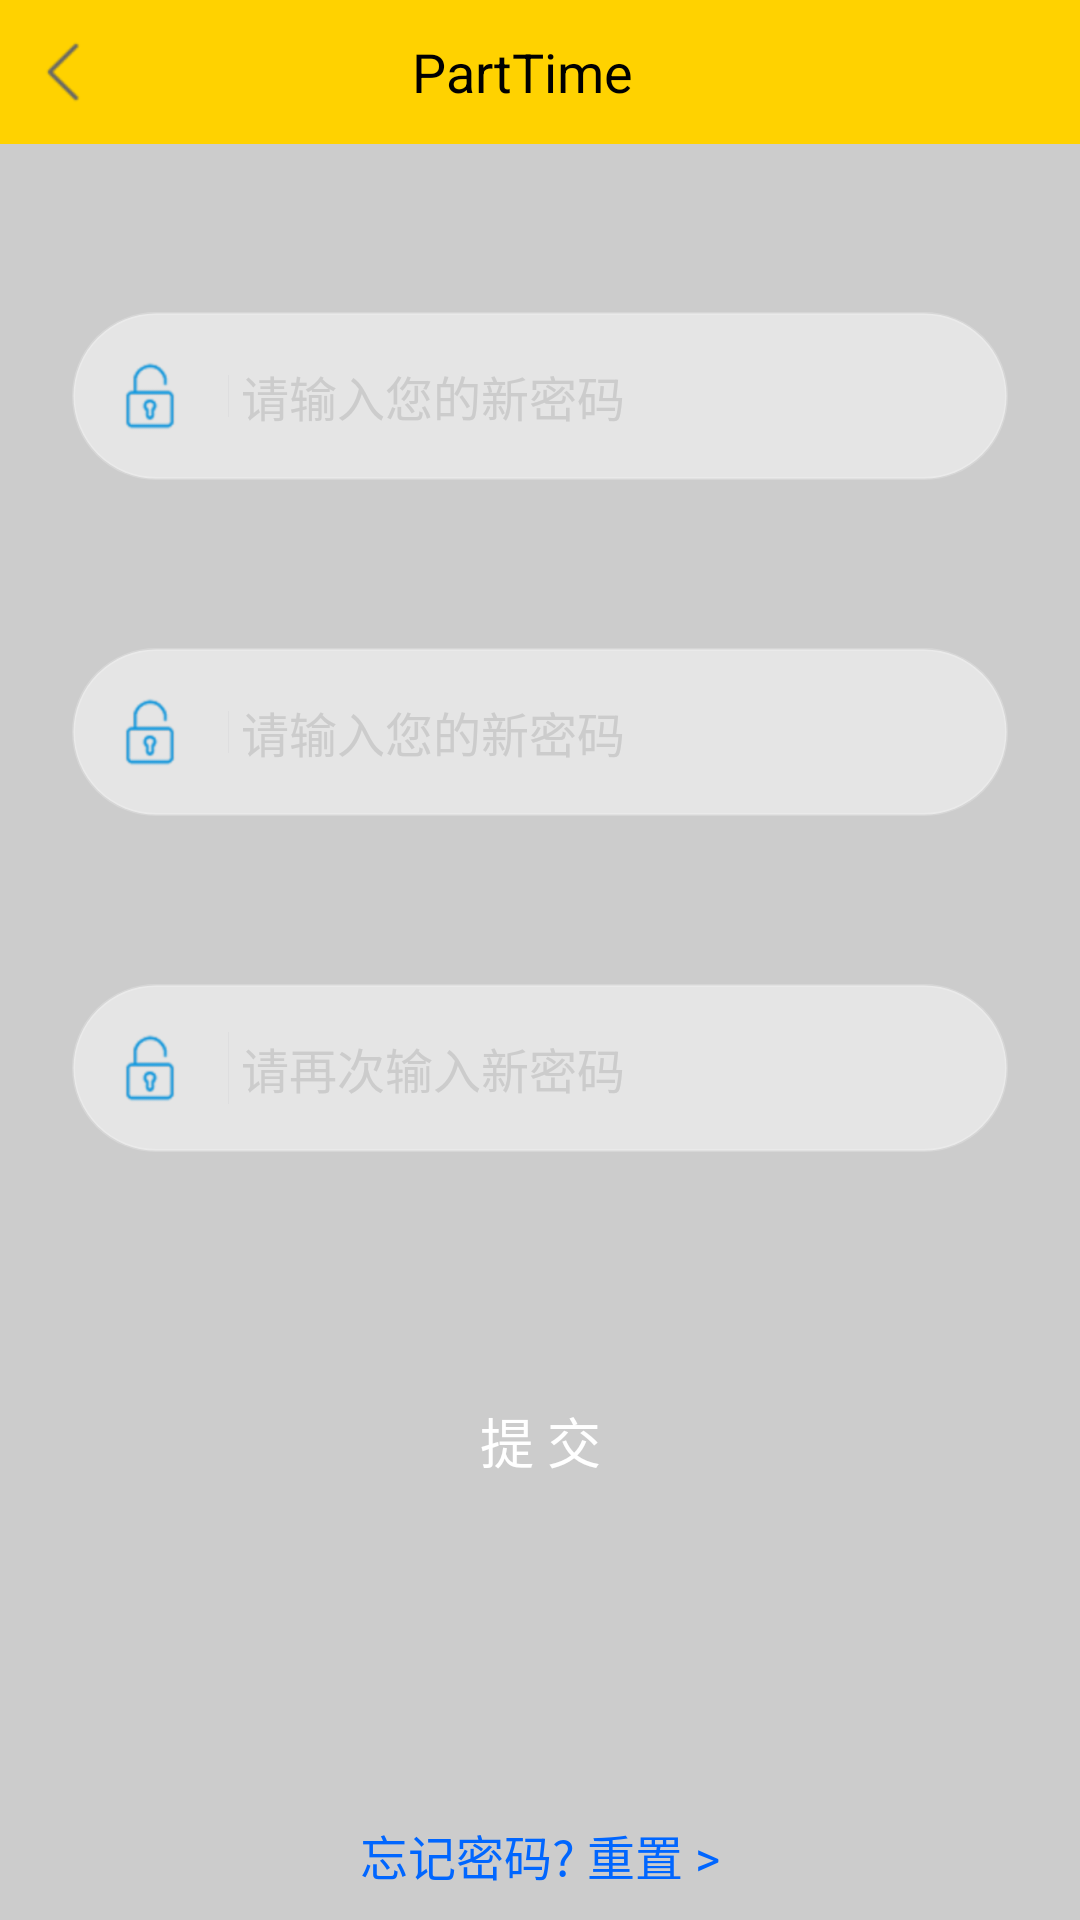

Where icons sit on this 1080*1920 app screen, as (x1, y1, x2, y2):
back: (47, 43, 79, 101)
login password: (126, 363, 174, 429), (126, 699, 174, 765), (126, 1035, 174, 1101)
